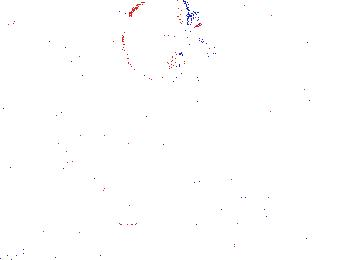moon jellyfish: (121, 1, 190, 86), (23, 70, 95, 149), (3, 9, 85, 55)
